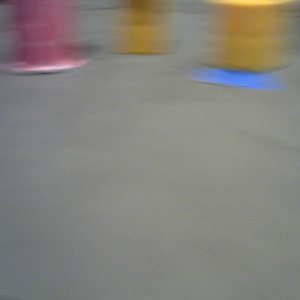middle: (1, 1, 90, 72)
